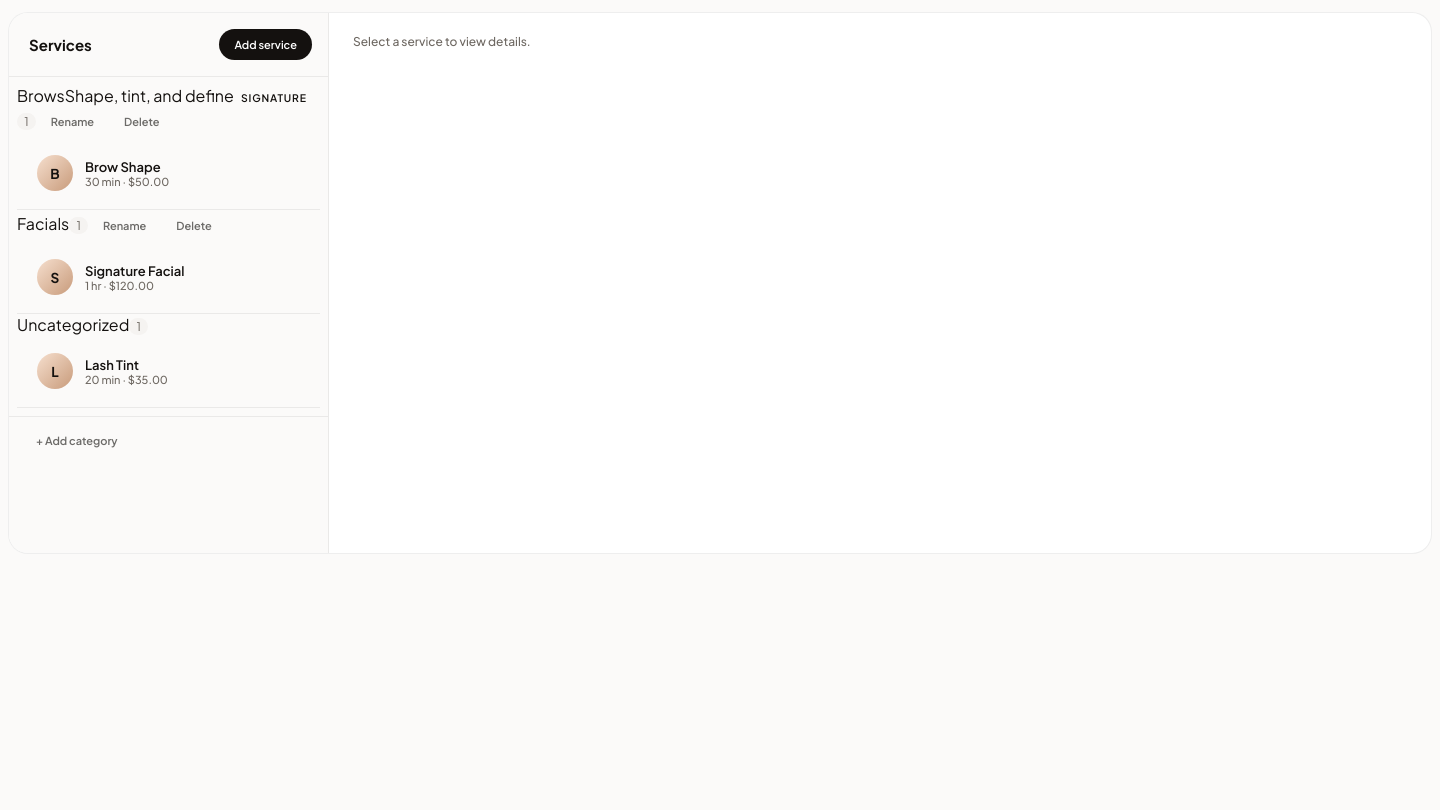
ServicesPage › shows the direct scheduling link on each service card
The image size is (1440, 810).
Click the text "Brow Shape" at (127, 166), box [85,158,169,174]
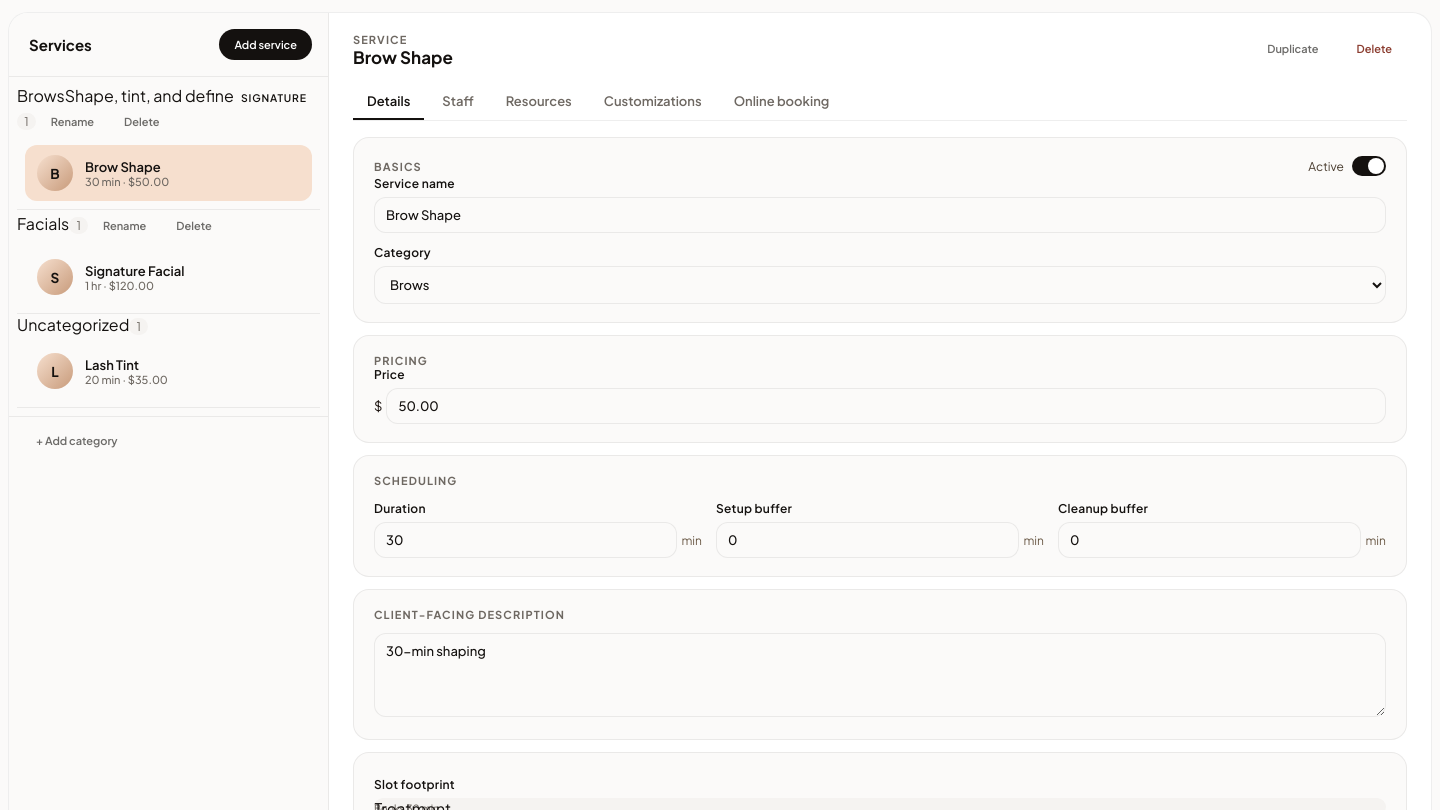
Click the tab "Online booking" at (781, 102), box [720,84,843,120]
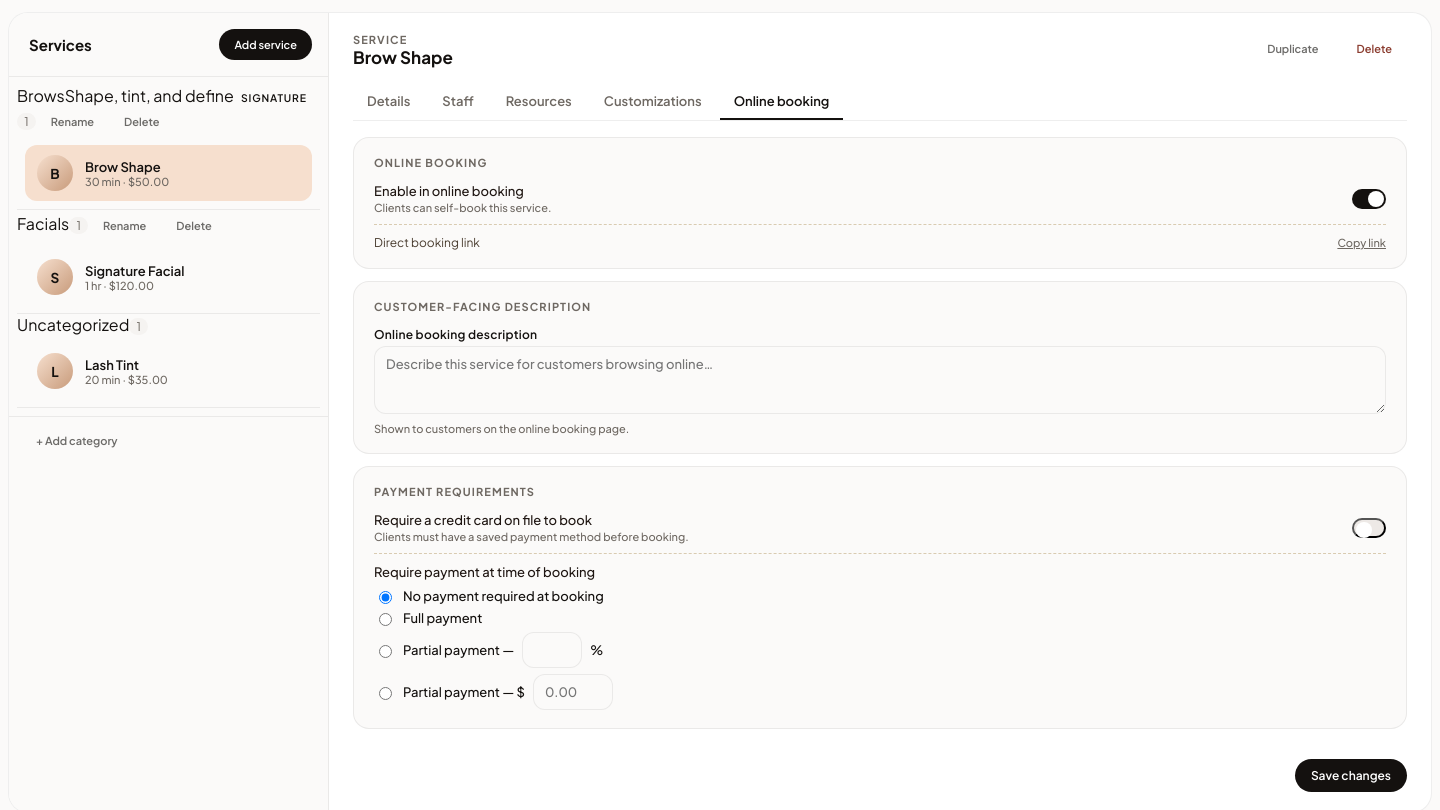
Now the text "Copy link" is shown, box [1337,236,1386,249]
